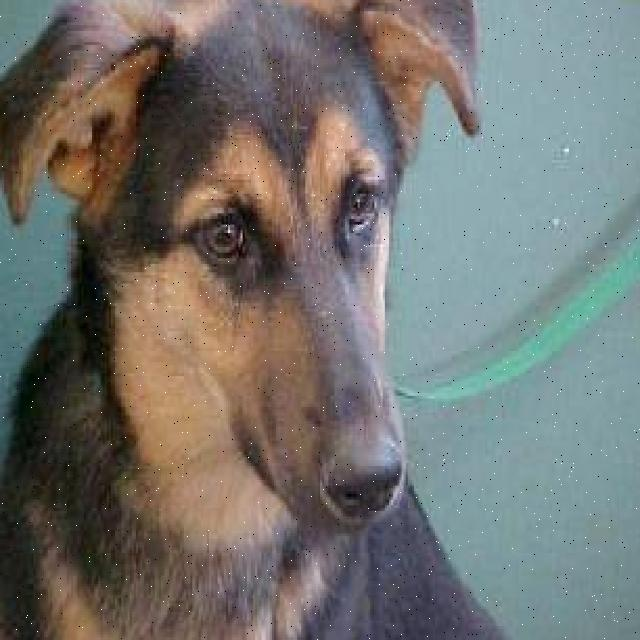Dog: (0, 0, 485, 533)
